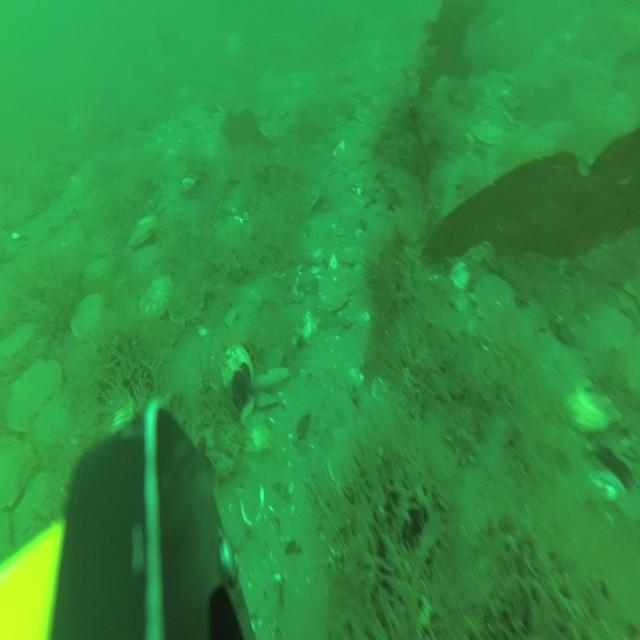scallop: (11, 355, 62, 434), (1, 425, 38, 514), (569, 383, 619, 433), (329, 428, 363, 497), (474, 269, 514, 325), (1, 318, 37, 372), (318, 269, 354, 313), (74, 294, 104, 341), (144, 275, 174, 321), (471, 112, 501, 151), (130, 215, 159, 252)
